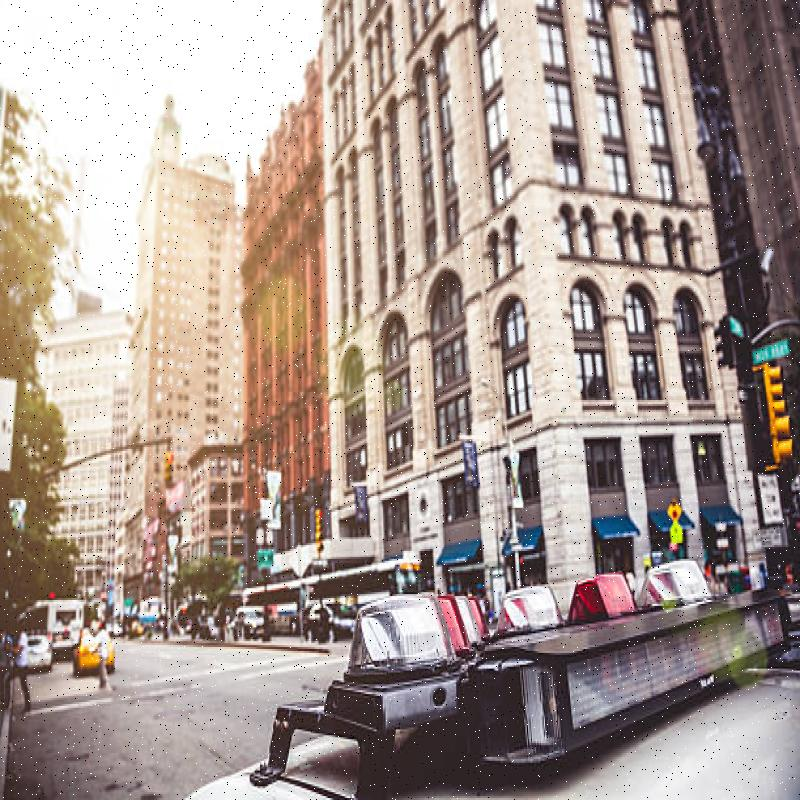AmbulanceSiren: (324, 555, 708, 708)
